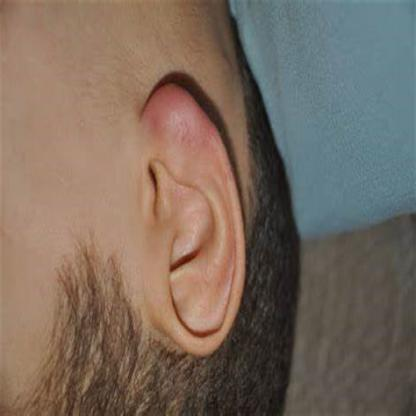Wasp: (127, 67, 228, 172)
